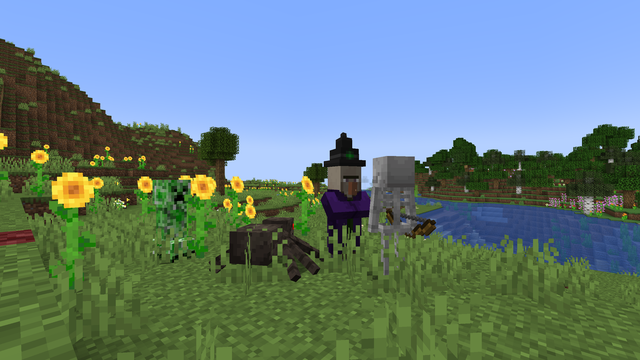araignees: (217, 211, 322, 286)
creepers: (150, 175, 192, 262)
sorcieres: (322, 161, 361, 270)
squelettes: (368, 155, 416, 284)
